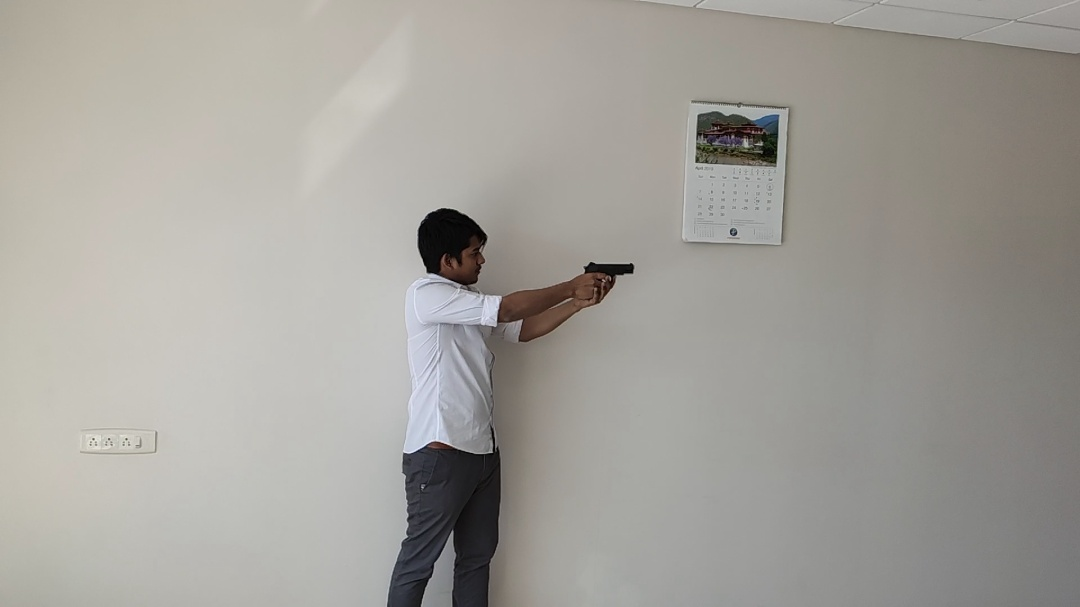gun: (363, 112, 732, 477)
